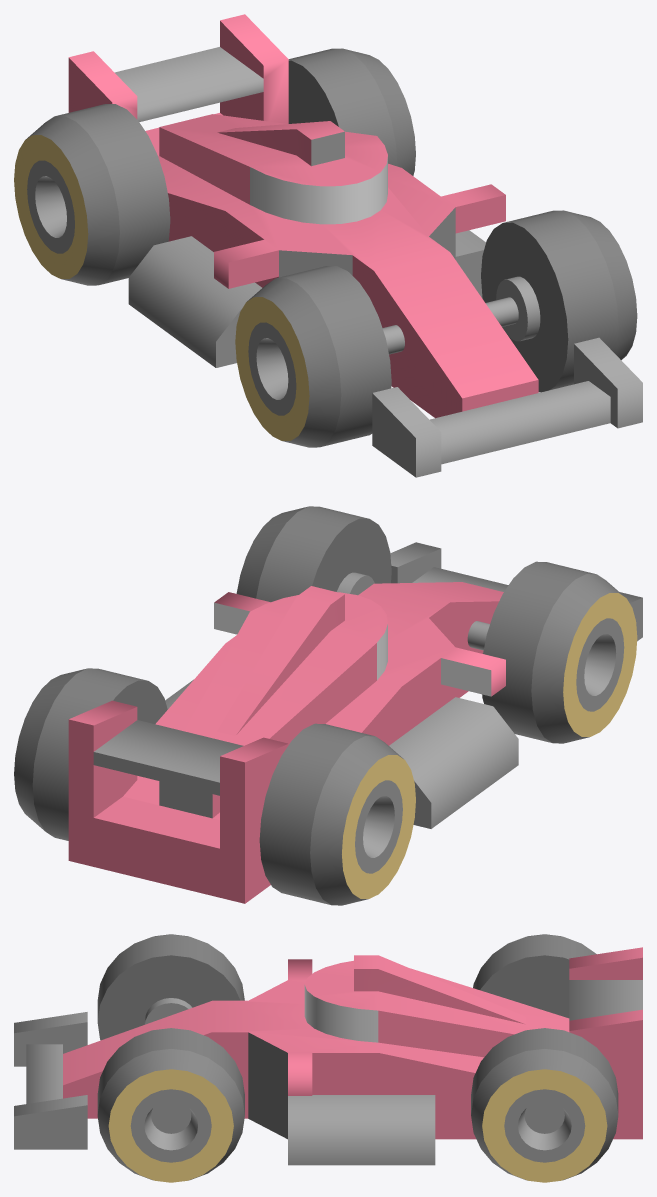
Rendered from raceCar.glb.
3 renders of one model, top to bottom at view 1: azimuth 30°, elevation 25°; view 2: azimuth 150°, elevation 25°; view 3: azimuth 270°, elevation 25°, orthographic. The views are drawn at different scales.
Visible parts, largest first — view 1: body, wheel_frontRight, wheel_backRight, wheel_frontLeft, wheel_backLeft; view 2: body, wheel_backRight, wheel_frontRight, wheel_backLeft, wheel_frontLeft; view 3: body, wheel_backLeft, wheel_frontLeft, wheel_frontRight, wheel_backRight.
Part boxes in pixels (left/top/right/bottom): body: left=68, top=14, right=642, bottom=477; wheel_frontRight: left=235, top=266, right=391, bottom=447; wheel_backRight: left=14, top=104, right=170, bottom=285; wheel_frontLeft: left=481, top=210, right=637, bottom=392; wheel_backLeft: left=288, top=48, right=415, bottom=175; body: left=68, top=542, right=642, bottom=903; wheel_backRight: left=259, top=723, right=415, bottom=905; wheel_frontRight: left=482, top=561, right=637, bottom=743; wheel_backLeft: left=14, top=668, right=167, bottom=840; wheel_frontLeft: left=236, top=506, right=391, bottom=602; body: left=14, top=947, right=642, bottom=1165; wheel_backLeft: left=471, top=1028, right=618, bottom=1182; wheel_frontLeft: left=97, top=1028, right=244, bottom=1182; wheel_frontRight: left=97, top=934, right=244, bottom=1040; wheel_backRight: left=473, top=934, right=596, bottom=1018.
Size of the model in its own units: 1.3 by 0.7325 by 2.56.
